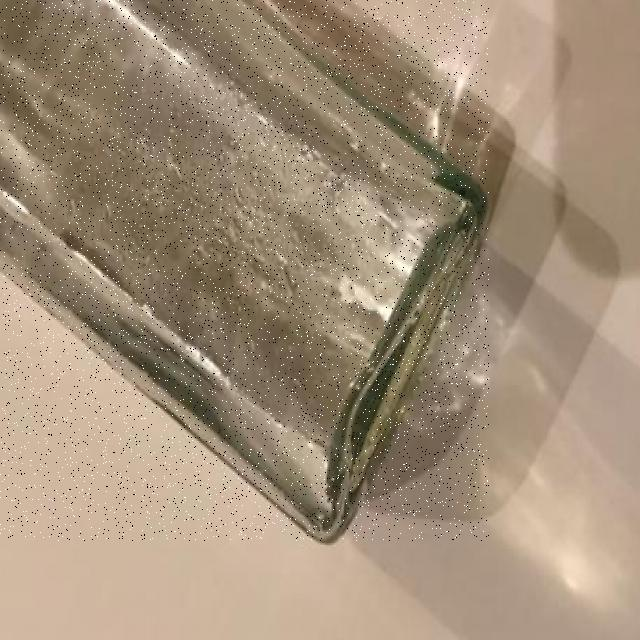glass: (0, 0, 489, 541)
